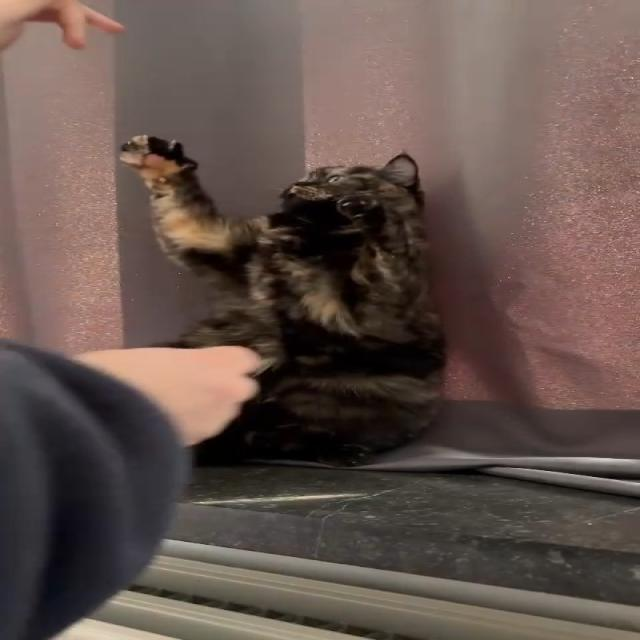authorized: (117, 134, 448, 468)
